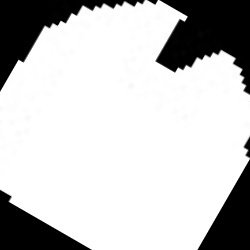spot: (2, 2, 248, 248)
